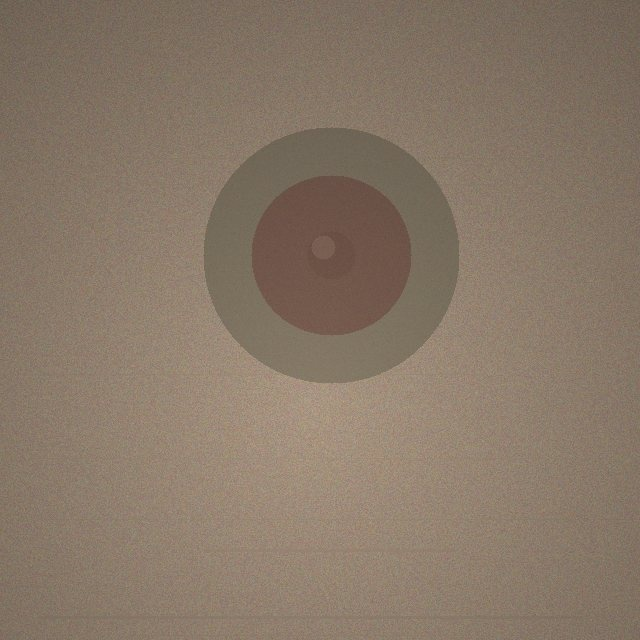good: (203, 127, 459, 383)
